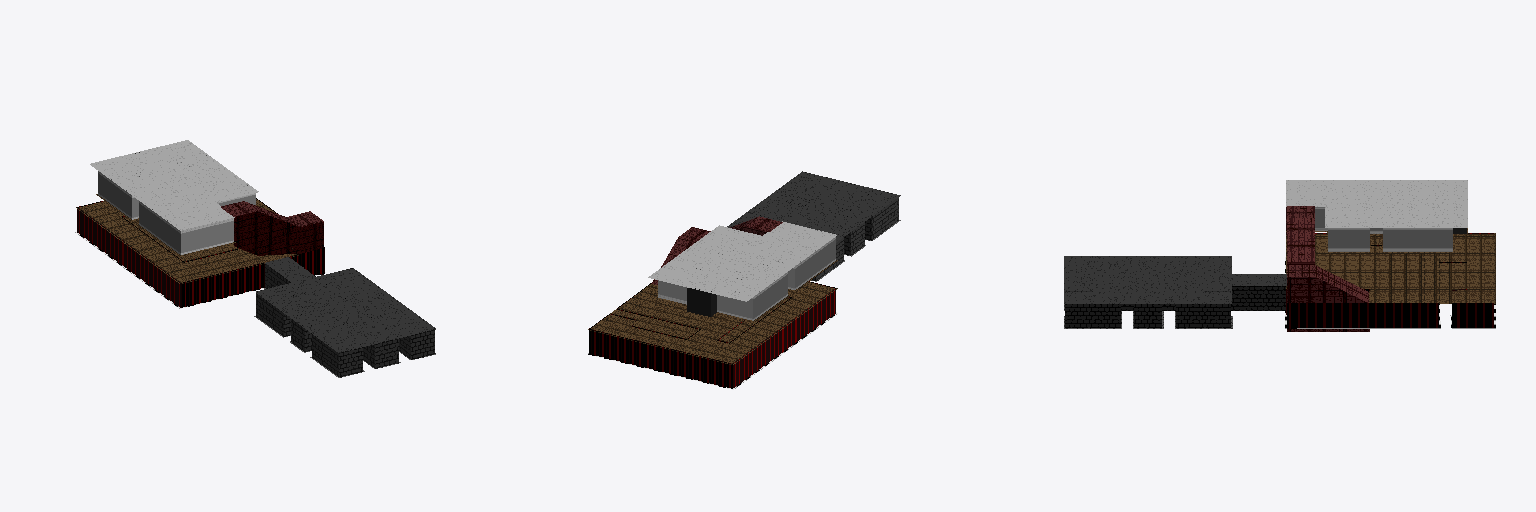
3 views of the same model, side by side, from view 1: azimuth 30°, elevation 25°; view 2: azimuth 150°, elevation 25°; view 3: azimuth 270°, elevation 25° (orthographic).
Visible parts, largest first — view 1: Basement_roof_Plane.005, lvl1_roof_Mesh, lvl2_roof_Plane.002, stare_walls.001_Plane.014, lvl2_walls_Plane.009, lvl2_walls.002_Plane.013, Basement_walls.002_Plane.010, Basement_walls_Plane, lvl1_walls.004, lvl1_walls.002, stare_walls_Plane.006; view 2: lvl2_roof_Plane.002, lvl1_roof_Mesh, Basement_roof_Plane.005, lvl2_walls_Plane.009, lvl2_walls.002_Plane.013, lvl1_walls.004, lvl1_walls, Basement_walls.002_Plane.010, stare_walls_Plane.006, lvl1_walls.001; view 3: lvl2_roof_Plane.002, Basement_roof_Plane.005, lvl1_roof_Mesh, lvl2_walls.001_Plane.011, Basement_walls.001_Plane.004, lvl1_walls.004, stare_walls_Plane.006, stare_walls.002_Plane.015.
Part boxes in pixels (left/top/right/bottom): Basement_roof_Plane.005: left=256, top=257, right=435, bottom=352; lvl1_roof_Mesh: left=90, top=140, right=258, bottom=230; lvl2_roof_Plane.002: left=76, top=199, right=298, bottom=283; stare_walls.001_Plane.014: left=234, top=211, right=323, bottom=274; lvl2_walls_Plane.009: left=78, top=201, right=324, bottom=307; lvl2_walls.002_Plane.013: left=77, top=207, right=180, bottom=307; Basement_walls.002_Plane.010: left=256, top=264, right=410, bottom=376; Basement_walls_Plane: left=257, top=268, right=434, bottom=376; lvl1_walls.004: left=98, top=155, right=247, bottom=254; lvl1_walls.002: left=132, top=162, right=255, bottom=254; stare_walls_Plane.006: left=221, top=201, right=323, bottom=226; lvl2_roof_Plane.002: left=588, top=282, right=837, bottom=364; lvl1_roof_Mesh: left=648, top=221, right=836, bottom=301; Basement_roof_Plane.005: left=727, top=171, right=900, bottom=242; lvl2_walls_Plane.009: left=589, top=281, right=835, bottom=388; lvl2_walls.002_Plane.013: left=632, top=289, right=835, bottom=387; lvl1_walls.004: left=664, top=237, right=835, bottom=320; lvl1_walls: left=658, top=250, right=794, bottom=320; Basement_walls.002_Plane.010: left=811, top=178, right=898, bottom=280; stare_walls_Plane.006: left=652, top=216, right=782, bottom=284; lvl1_walls.001: left=687, top=288, right=716, bottom=316; lvl2_roof_Plane.002: left=1286, top=233, right=1495, bottom=303; Basement_roof_Plane.005: left=1064, top=256, right=1286, bottom=303; lvl1_roof_Mesh: left=1286, top=180, right=1467, bottom=227; lvl2_walls.001_Plane.011: left=1286, top=245, right=1493, bottom=328; Basement_walls.001_Plane.004: left=1065, top=286, right=1285, bottom=327; lvl1_walls.004: left=1315, top=207, right=1452, bottom=251; stare_walls_Plane.006: left=1286, top=206, right=1368, bottom=302; stare_walls.002_Plane.015: left=1287, top=277, right=1369, bottom=331.
Size of the model in its own units: 307 by 163 by 780.
20 materials, 20 textured.